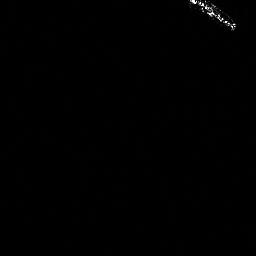ship: (189, 1, 237, 30)
